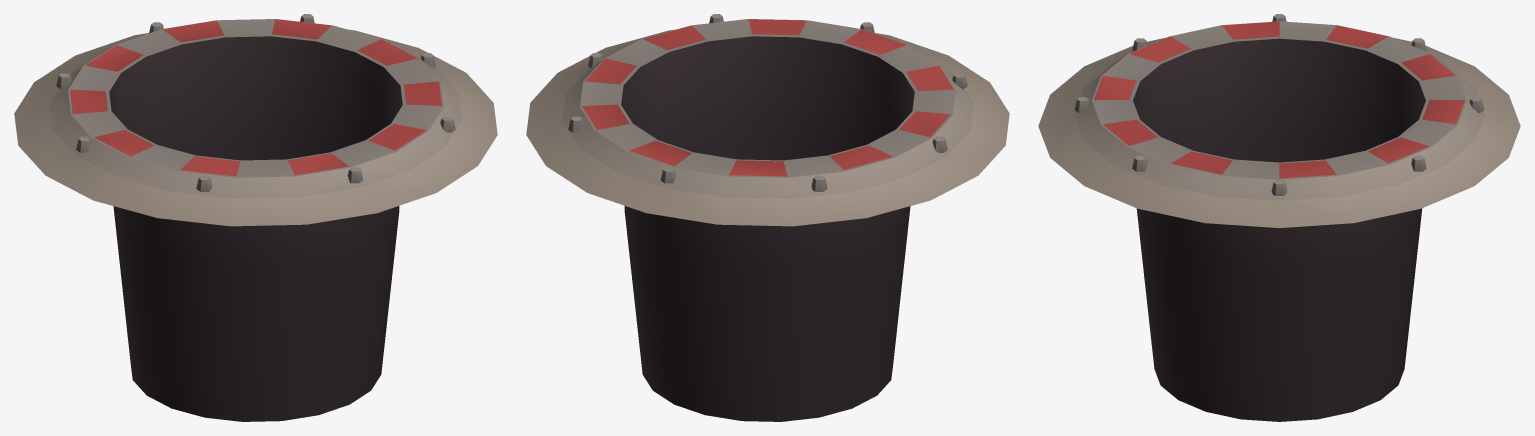
File: bore_collar.glb
3 views of the same model, side by side, from view 1: azimuth 30°, elevation 25°; view 2: azimuth 150°, elevation 25°; view 3: azimuth 270°, elevation 25° (orthographic).
Parts seen in each view (by area): view 1: bore_collar; view 2: bore_collar; view 3: bore_collar.
Part boxes in pixels (box(x1,y1,x2,y2)): bore_collar: box(14, 14, 497, 421); bore_collar: box(526, 14, 1009, 421); bore_collar: box(1038, 14, 1520, 421).
Bounding box in the file's own units: 16.2 × 10 × 16.2.
